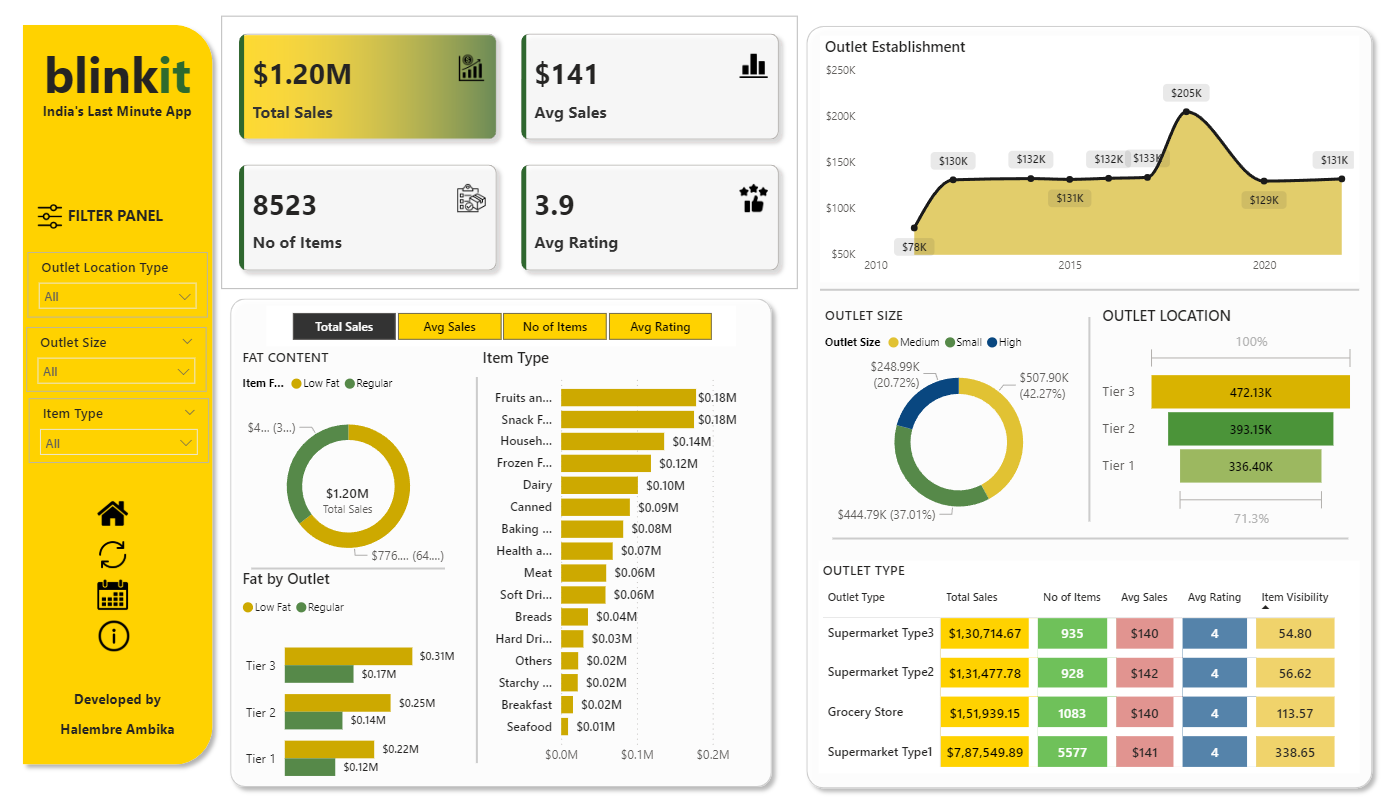

This screenshot's page, from the dashboard's own definition file:
{"tool":"powerbi","page":{"name":"Page 1","canvas":[1400,800],"ordinal":0},"visuals":[{"type":"shape","box":[18,24,205.6,750],"z":0},{"type":"textbox","box":[24,43.5,195.1,82.5],"z":1000},{"type":"textbox","box":[24,103.6,195.1,67.5],"z":2000},{"type":"cardVisual","fields":{"Data":["BlinkIT Grocery Data.Total Sales","BlinkIT Grocery Data.Avg Sales","BlinkIT Grocery Data.No of Items","BlinkIT Grocery Data.Avg Rating"]},"box":[223.6,24,570.3,270.2],"z":3000},{"type":"shape","box":[223.9,294.9,553.6,501.3],"z":4000},{"type":"donutChart","title":"FAT CONTENT","fields":{"Y":["BlinkIT Grocery Data.Total Sales"],"Category":["BlinkIT Grocery Data.Item Fat Content"]},"box":[239.9,351.2,219.8,230.6],"z":5000},{"type":"slicer","fields":{"Values":["Metrics.Metrics"]},"box":[268.1,311,465.1,40.2],"z":6000},{"type":"cardVisual","fields":{"Data":["BlinkIT Grocery Data.Total Sales"]},"box":[289.5,457.1,119.3,88.5],"z":7000},{"type":"clusteredBarChart","title":"Fat by Outlet","fields":{"Y":["BlinkIT Grocery Data.Total Sales"],"Category":["BlinkIT Grocery Data.Outlet Location Type"],"Series":["BlinkIT Grocery Data.Item Fat Content"]},"box":[239.9,569.7,219.8,230.6],"z":8000},{"type":"shape","box":[253.4,542.9,191.7,55],"z":9000},{"type":"shape","box":[453.1,380.7,48.3,382],"z":10000},{"type":"barChart","title":"Item Type","fields":{"Y":["BlinkIT Grocery Data.Total Sales"],"Category":["BlinkIT Grocery Data.Item Type"]},"box":[477.2,351.2,278.8,422.3],"z":11000},{"type":"shape","box":[793.6,24.1,577.8,772.1],"z":12000},{"type":"lineChart","title":"Outlet Establishment","fields":{"Y":["BlinkIT Grocery Data.Total Sales"],"Category":["BlinkIT Grocery Data.Outlet Establishment Year"]},"box":[816.4,42.9,533.5,244],"z":13000},{"type":"shape","box":[816.4,266.8,533.5,55],"z":14000},{"type":"donutChart","title":"OUTLET SIZE","fields":{"Y":["BlinkIT Grocery Data.Total Sales"],"Category":["BlinkIT Grocery Data.Outlet Size"]},"box":[816.4,311,275,225],"z":15000},{"type":"shape","box":[1059,321.7,48.3,202.4],"z":16000},{"type":"funnel","title":"OUTLET LOCATION","fields":{"Y":["Sum(BlinkIT Grocery Data.Sales)"],"Category":["BlinkIT Grocery Data.Outlet Location Type"]},"box":[1091.2,309.7,260.1,226.5],"z":17000},{"type":"pivotTable","title":"OUTLET TYPE","fields":{"Values":["BlinkIT Grocery Data.Total Sales","BlinkIT Grocery Data.No of Items","BlinkIT Grocery Data.Avg Sales","BlinkIT Grocery Data.Avg Rating","Sum(BlinkIT Grocery Data.Item Visibility)"],"Rows":["BlinkIT Grocery Data.Outlet Type"]},"box":[815,563,534.9,210.5],"z":18000},{"type":"shape","box":[828.4,513.4,510.7,55],"z":19000},{"type":"slicer","fields":{"Values":["BlinkIT Grocery Data.Outlet Location Type"]},"box":[32.2,257.4,178.3,65],"z":20000},{"type":"slicer","fields":{"Values":["BlinkIT Grocery Data.Outlet Size"]},"box":[30.8,331.1,178.3,64.3],"z":21000},{"type":"slicer","fields":{"Values":["BlinkIT Grocery Data.Item Type"]},"box":[33.5,402.1,178.3,64.3],"z":22000},{"type":"textbox","box":[32.2,685,178.3,34.9],"z":23000},{"type":"textbox","box":[32.2,714.5,178.3,36.2],"z":24000},{"type":"textbox","box":[26.8,205.1,183.6,36.2],"z":25000},{"type":"image","box":[24.1,205.1,59,33.5],"z":26000},{"type":"image","box":[96.5,496,40.2,40.2],"z":27000},{"type":"image","box":[96.5,536.2,40.2,40.2],"z":28000},{"type":"image","box":[96.5,576.4,40.2,40.2],"z":29000},{"type":"image","box":[97.9,616.6,40.2,40.2],"z":30000}]}

Visuals, with their boxes in screenshot pixels (x1, y1, x2, y2), scaled from the page's 1400x800 canvas onto the 1396x800 screenshot:
shape: <bbox>18, 24, 223, 774</bbox>
textbox: <bbox>24, 44, 218, 126</bbox>
textbox: <bbox>24, 104, 218, 171</bbox>
cardVisual - BlinkIT Grocery Data.Total Sales x BlinkIT Grocery Data.Avg Sales: <bbox>223, 24, 792, 294</bbox>
shape: <bbox>223, 295, 775, 796</bbox>
"FAT CONTENT" donutChart: <bbox>239, 351, 458, 582</bbox>
slicer - Metrics.Metrics: <bbox>267, 311, 731, 351</bbox>
cardVisual - BlinkIT Grocery Data.Total Sales: <bbox>289, 457, 408, 546</bbox>
"Fat by Outlet" clusteredBarChart: <bbox>239, 570, 458, 799</bbox>
shape: <bbox>253, 543, 444, 598</bbox>
shape: <bbox>452, 381, 500, 763</bbox>
"Item Type" barChart: <bbox>476, 351, 754, 774</bbox>
shape: <bbox>791, 24, 1367, 796</bbox>
"Outlet Establishment" lineChart: <bbox>814, 43, 1346, 287</bbox>
shape: <bbox>814, 267, 1346, 322</bbox>
"OUTLET SIZE" donutChart: <bbox>814, 311, 1088, 536</bbox>
shape: <bbox>1056, 322, 1104, 524</bbox>
"OUTLET LOCATION" funnel: <bbox>1088, 310, 1347, 536</bbox>
"OUTLET TYPE" pivotTable: <bbox>813, 563, 1346, 774</bbox>
shape: <bbox>826, 513, 1335, 568</bbox>
slicer - BlinkIT Grocery Data.Outlet Location Type: <bbox>32, 257, 210, 322</bbox>
slicer - BlinkIT Grocery Data.Outlet Size: <bbox>31, 331, 209, 395</bbox>
slicer - BlinkIT Grocery Data.Item Type: <bbox>33, 402, 211, 466</bbox>
textbox: <bbox>32, 685, 210, 720</bbox>
textbox: <bbox>32, 714, 210, 751</bbox>
textbox: <bbox>27, 205, 210, 241</bbox>
image: <bbox>24, 205, 83, 239</bbox>
image: <bbox>96, 496, 136, 536</bbox>
image: <bbox>96, 536, 136, 576</bbox>
image: <bbox>96, 576, 136, 617</bbox>
image: <bbox>98, 617, 138, 657</bbox>
